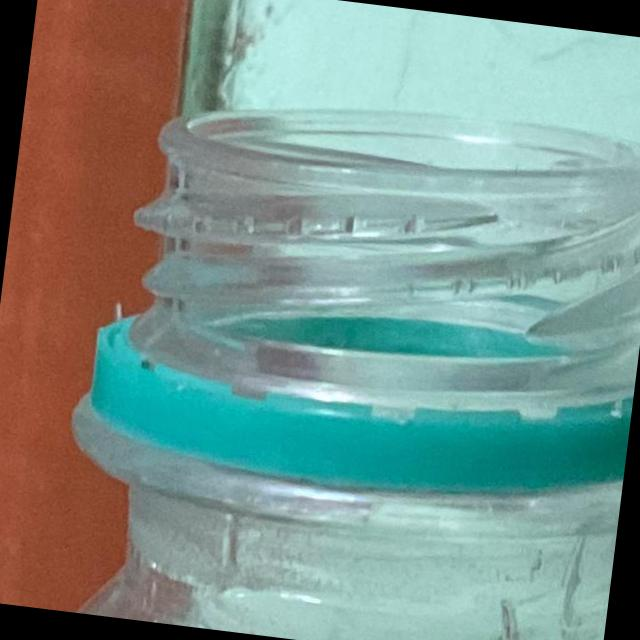open-cap: (58, 79, 640, 616)
